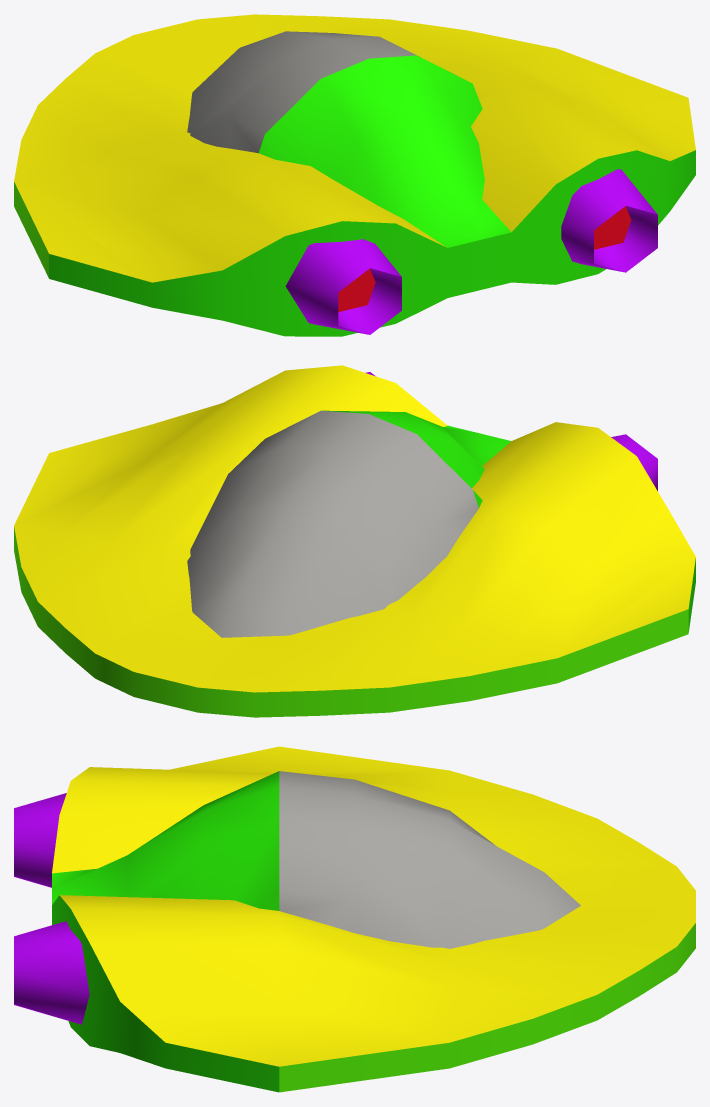
Rendered from vehicle0.dae.
3 renders of one model, top to bottom at view 1: azimuth 30°, elevation 25°; view 2: azimuth 150°, elevation 25°; view 3: azimuth 270°, elevation 25°, orthographic. The views are drawn at different scales.
Visible parts, largest first — view 1: SketchUp (×8); view 2: SketchUp (×5); view 3: SketchUp (×6).
Boxes of the visible parts, <box> form: SketchUp (×8): <box>14,14,695,336</box>; SketchUp (×5): <box>14,365,695,717</box>; SketchUp (×6): <box>14,746,695,1092</box>.
Bounding box in the file's own units: 17.32 × 15.59 × 4.46.
